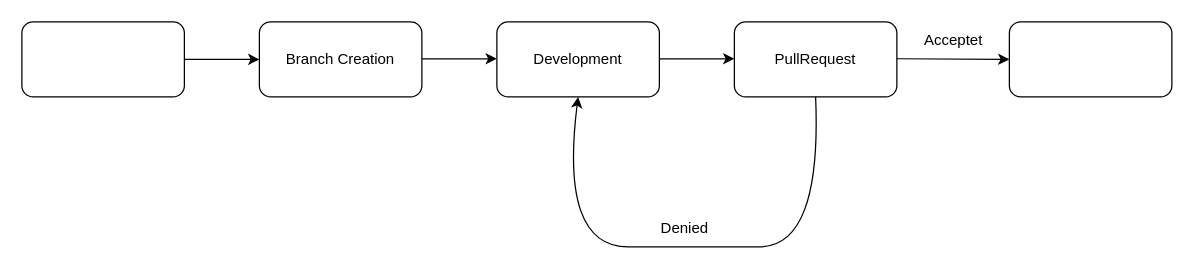
Image size: 1194x269. Some labels were removed from this diagram. Here are the shapes that lost their labels. From the top down, the box of each, then its label:
(21, 21, 184, 97): Issue Creation
(1008, 21, 1172, 97): Mark issue as Finished
